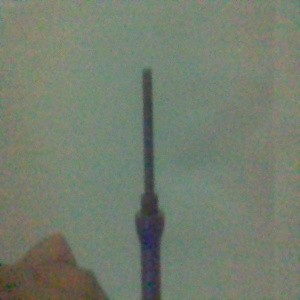obeng: (134, 67, 166, 300)
